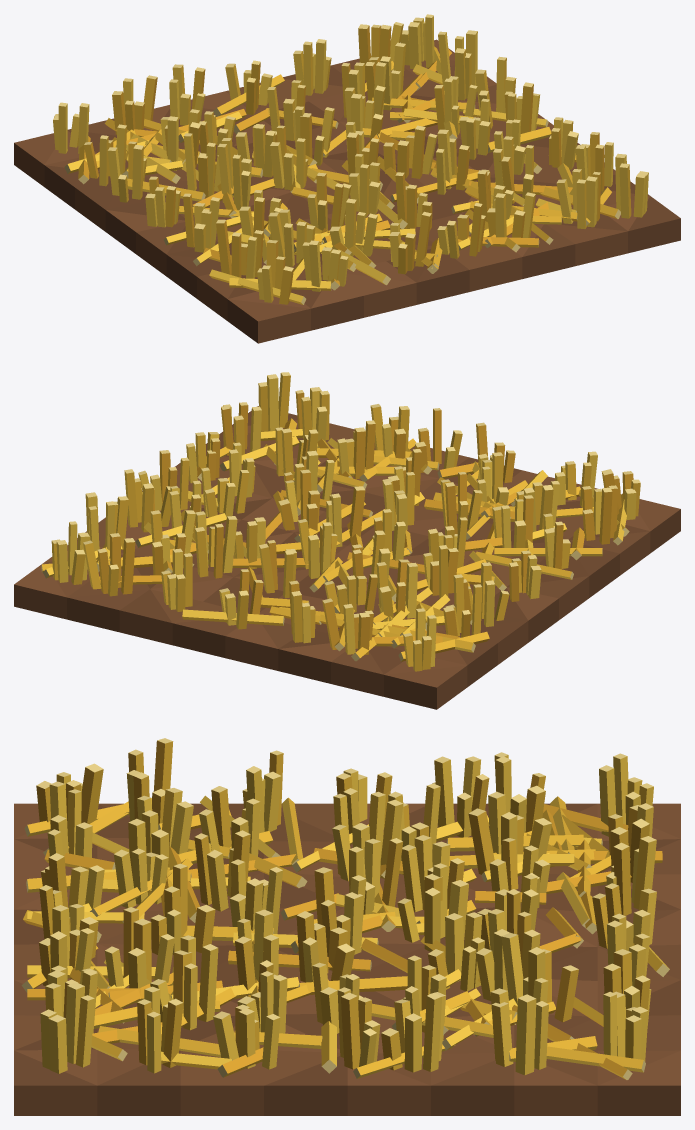
File: FMS_Crop_WheatField_Stubble.fbx
3 renders of one model, top to bottom at view 1: azimuth 30°, elevation 25°; view 2: azimuth 150°, elevation 25°; view 3: azimuth 270°, elevation 25°, orthographic. The views are drawn at different scales.
Parts seen in each view (by area): view 1: FMS_Crop_WheatField_Stubble; view 2: FMS_Crop_WheatField_Stubble; view 3: FMS_Crop_WheatField_Stubble.
Part boxes in pixels (x1,y1,x2,y2): FMS_Crop_WheatField_Stubble: (14,14,680,343); FMS_Crop_WheatField_Stubble: (14,372,680,709); FMS_Crop_WheatField_Stubble: (14,738,680,1115).
Bounding box in the file's own units: 2 × 0.351 × 2.
